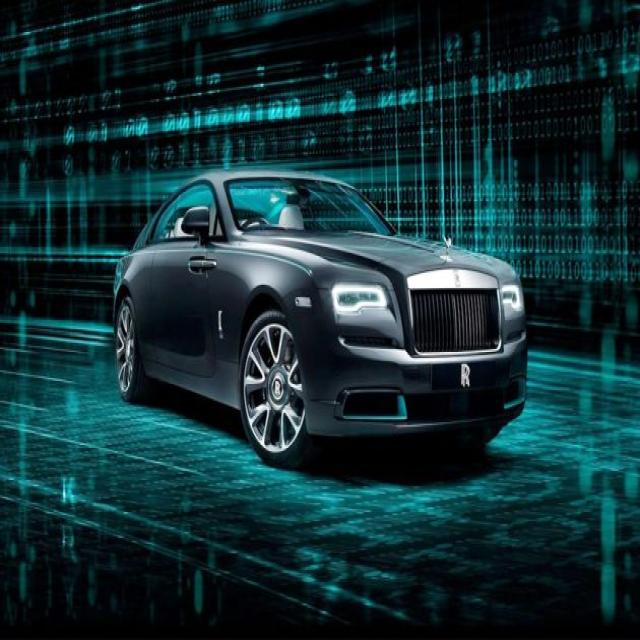Car: (110, 149, 540, 474)
